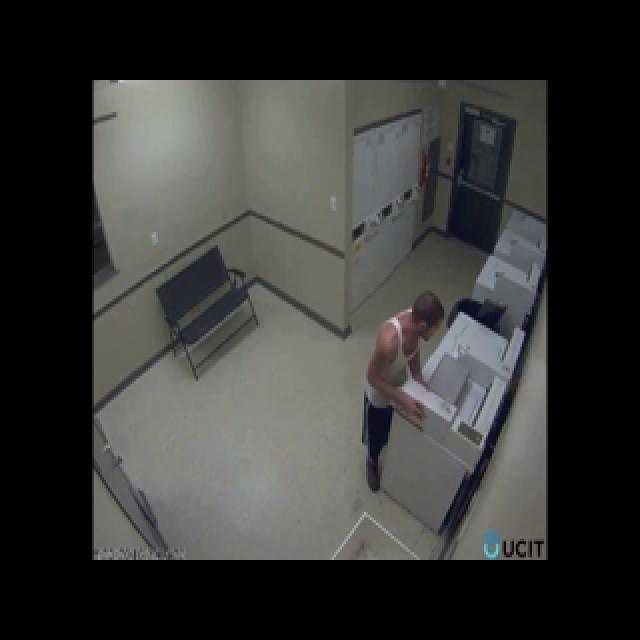arrest: (290, 211, 521, 506)
